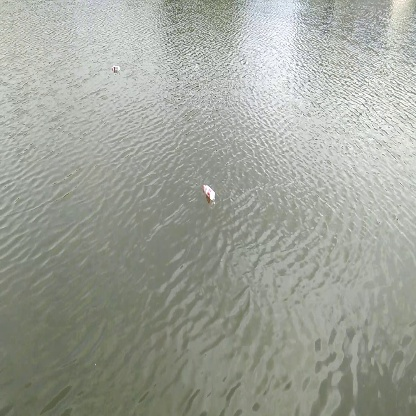bottle: (197, 178, 221, 207)
